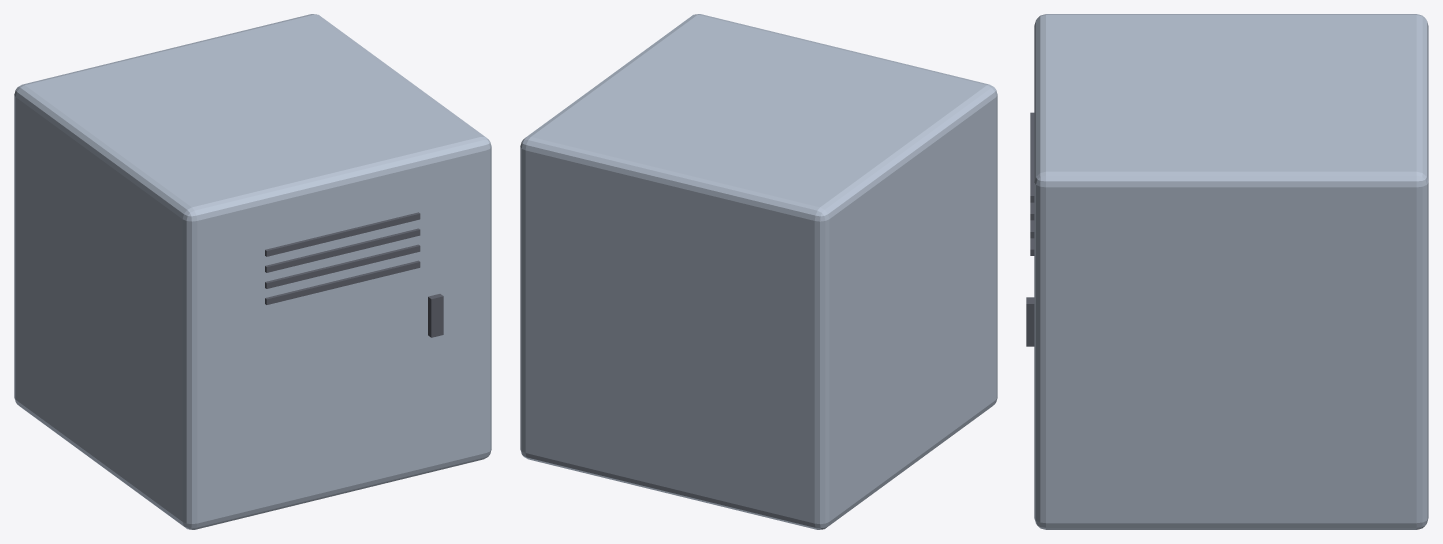
The model's file is locker.glb.
The picture shows the model from 3 angles, left to right: view 1: azimuth 30°, elevation 25°; view 2: azimuth 150°, elevation 25°; view 3: azimuth 270°, elevation 25°; orthographic projection. The views are drawn at different scales.
Parts seen in each view (by area): view 1: locker; view 2: locker; view 3: locker.
Boxes of the visible parts, x1,y1,x2,y2 form: locker: (14,14,491,529); locker: (520,14,997,529); locker: (1026,14,1428,529).
Size of the model in its own units: 1 by 1 by 1.02.
